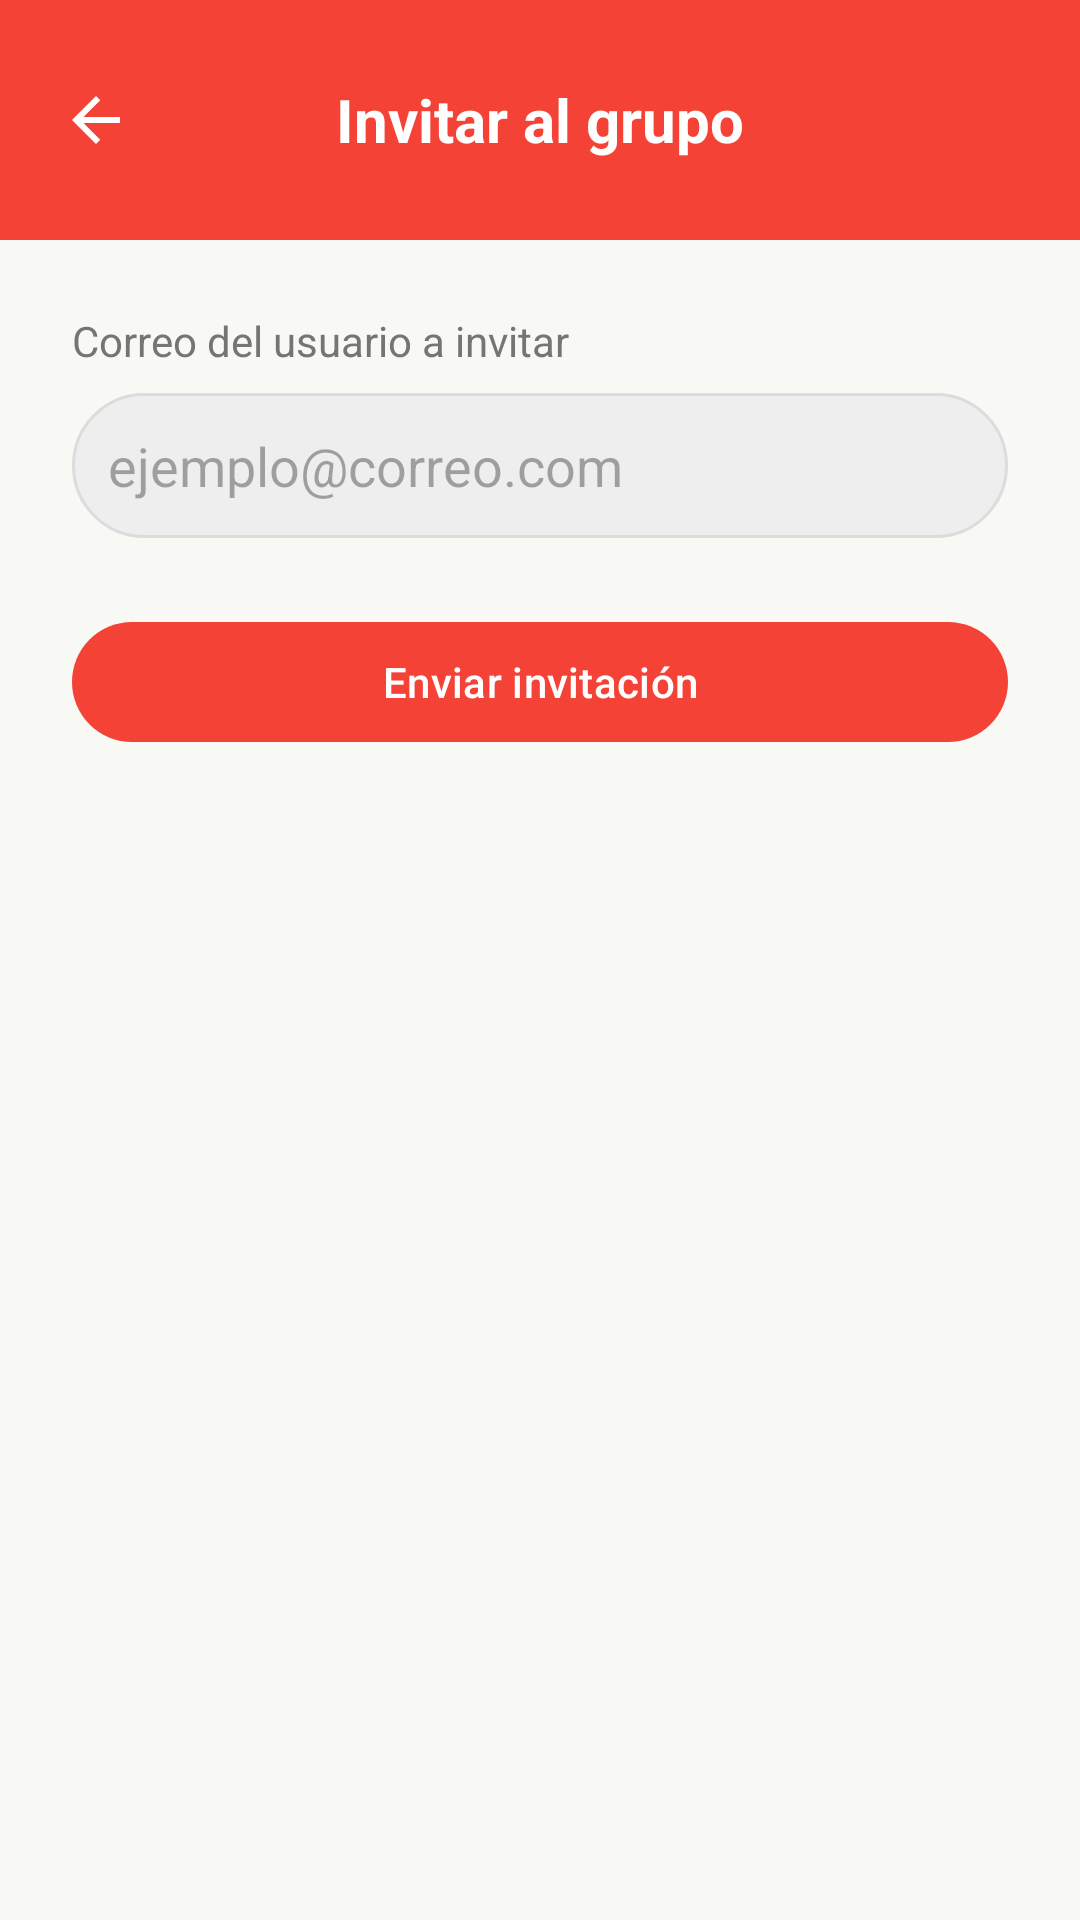

Locate icon controls on the screen. Image size 1080 x 1920, boxes as (x1, y1, x2, y2).
regresar: (72, 96, 120, 144)
